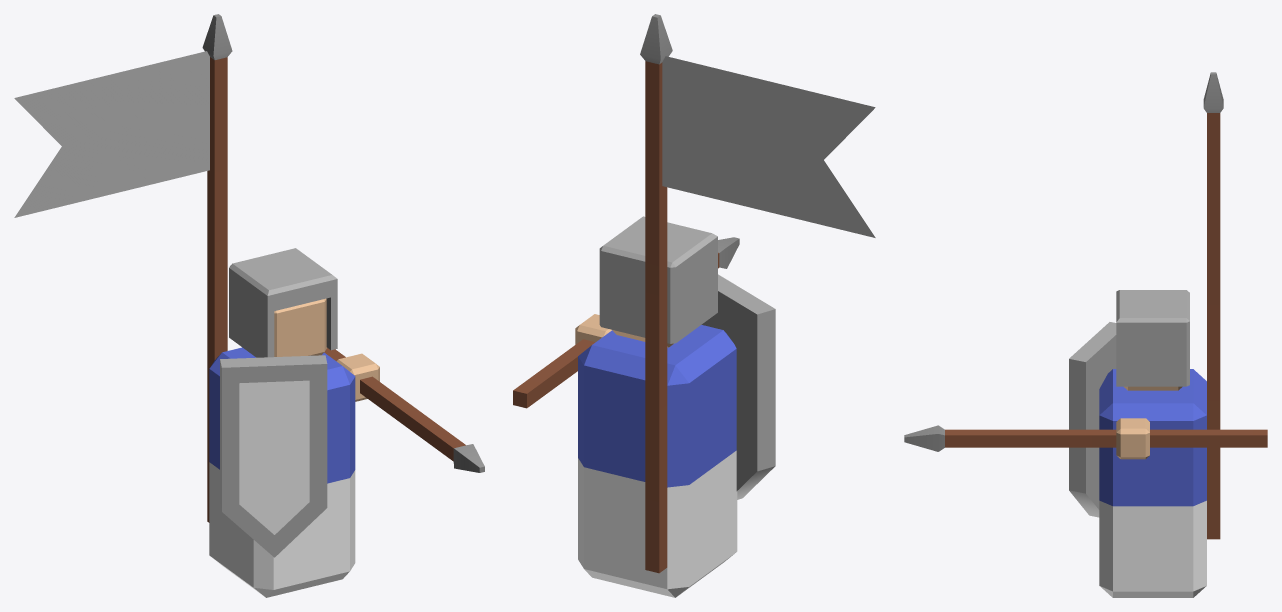
The model's file is Soldier Blue.fbx.
3 views of the same model, side by side, from view 1: azimuth 30°, elevation 25°; view 2: azimuth 150°, elevation 25°; view 3: azimuth 270°, elevation 25° (orthographic). The views are drawn at different scales.
Visible parts, largest first — view 1: Human, Flag, Spear (×2); view 2: Human, Flag, Spear (×2); view 3: Human, Spear (×2).
Boxes of the visible parts, x1,y1,x2,y2 form: Human: (209,248,379,597); Flag: (14,51,209,217); Spear (×2): (202,14,484,522); Human: (575,216,775,597); Flag: (662,56,875,237); Spear (×2): (513,14,739,573); Human: (1069,290,1206,597); Spear (×2): (904,72,1267,539).
Size of the model in its own units: 0.4926 by 0.8106 by 0.5406.
